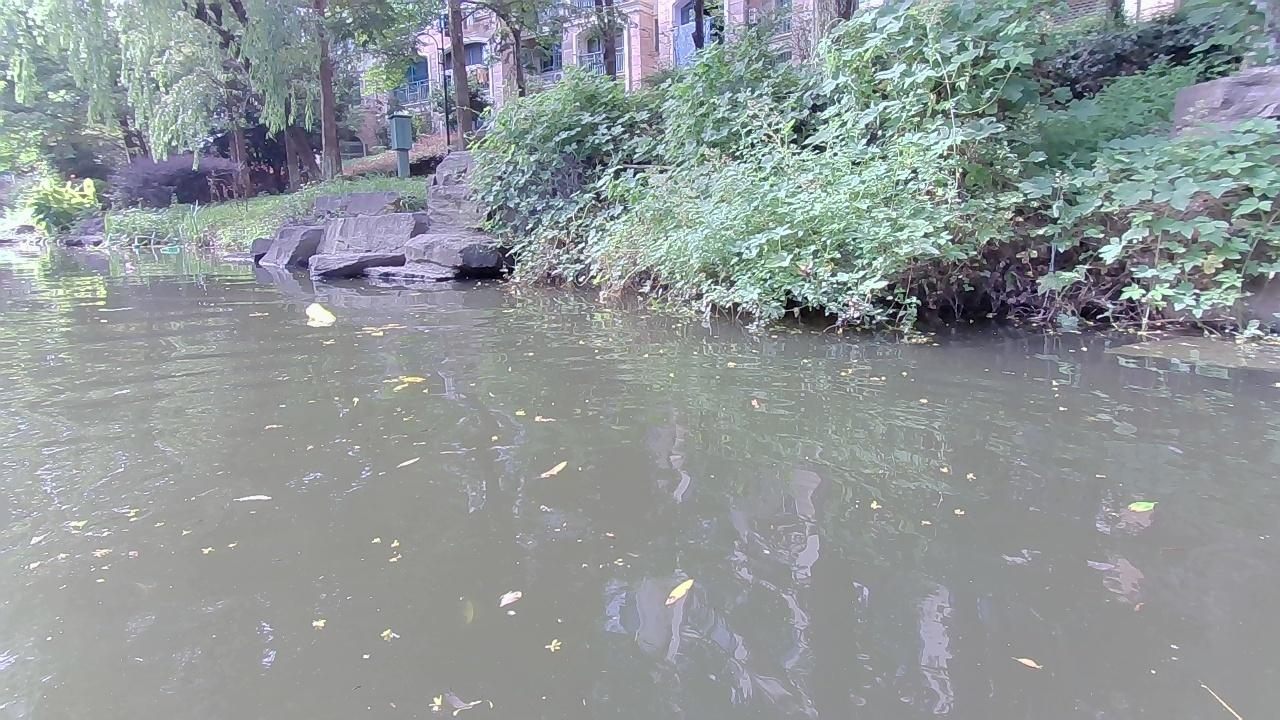bottle: (303, 299, 335, 328), (158, 244, 184, 254), (121, 261, 134, 270)
